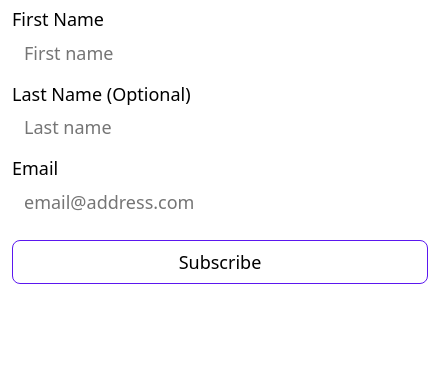
CallToActionForm › shows validation errors and blocks submit when required fields are missing
Click the button "Subscribe" at (220, 262), box x1=12 y1=240 x2=428 y2=284
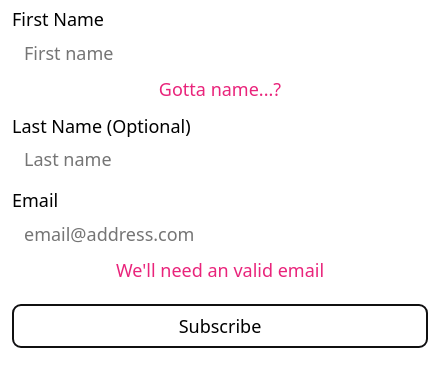
Check: the text "Gotta name...?" is shown, box x1=159 y1=76 x2=281 y2=100
Check: the text "We'll need an valid email" is shown, box x1=116 y1=258 x2=324 y2=282
